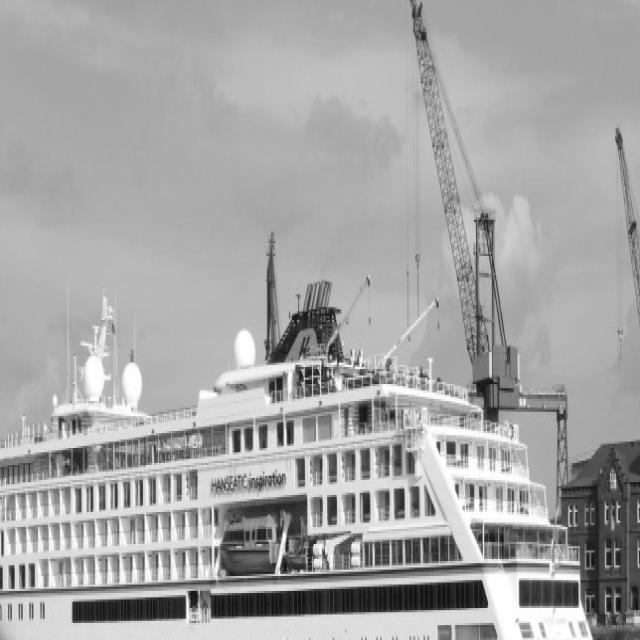cruises: (1, 291, 615, 640)
